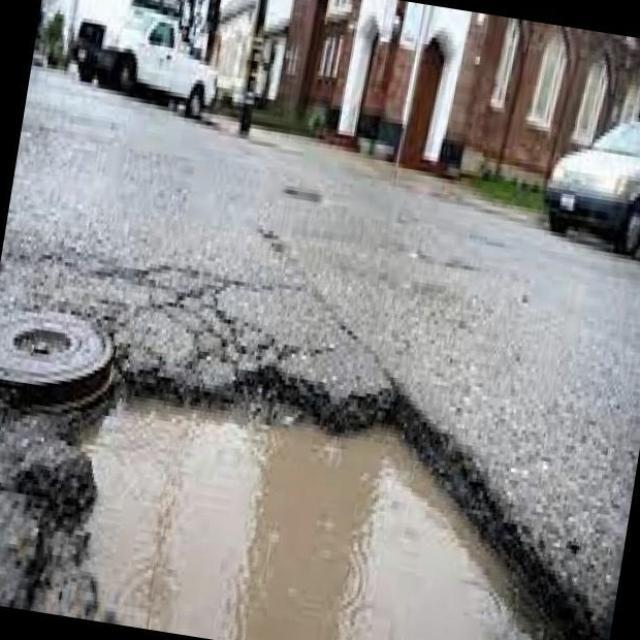pothole: (42, 345, 592, 637)
